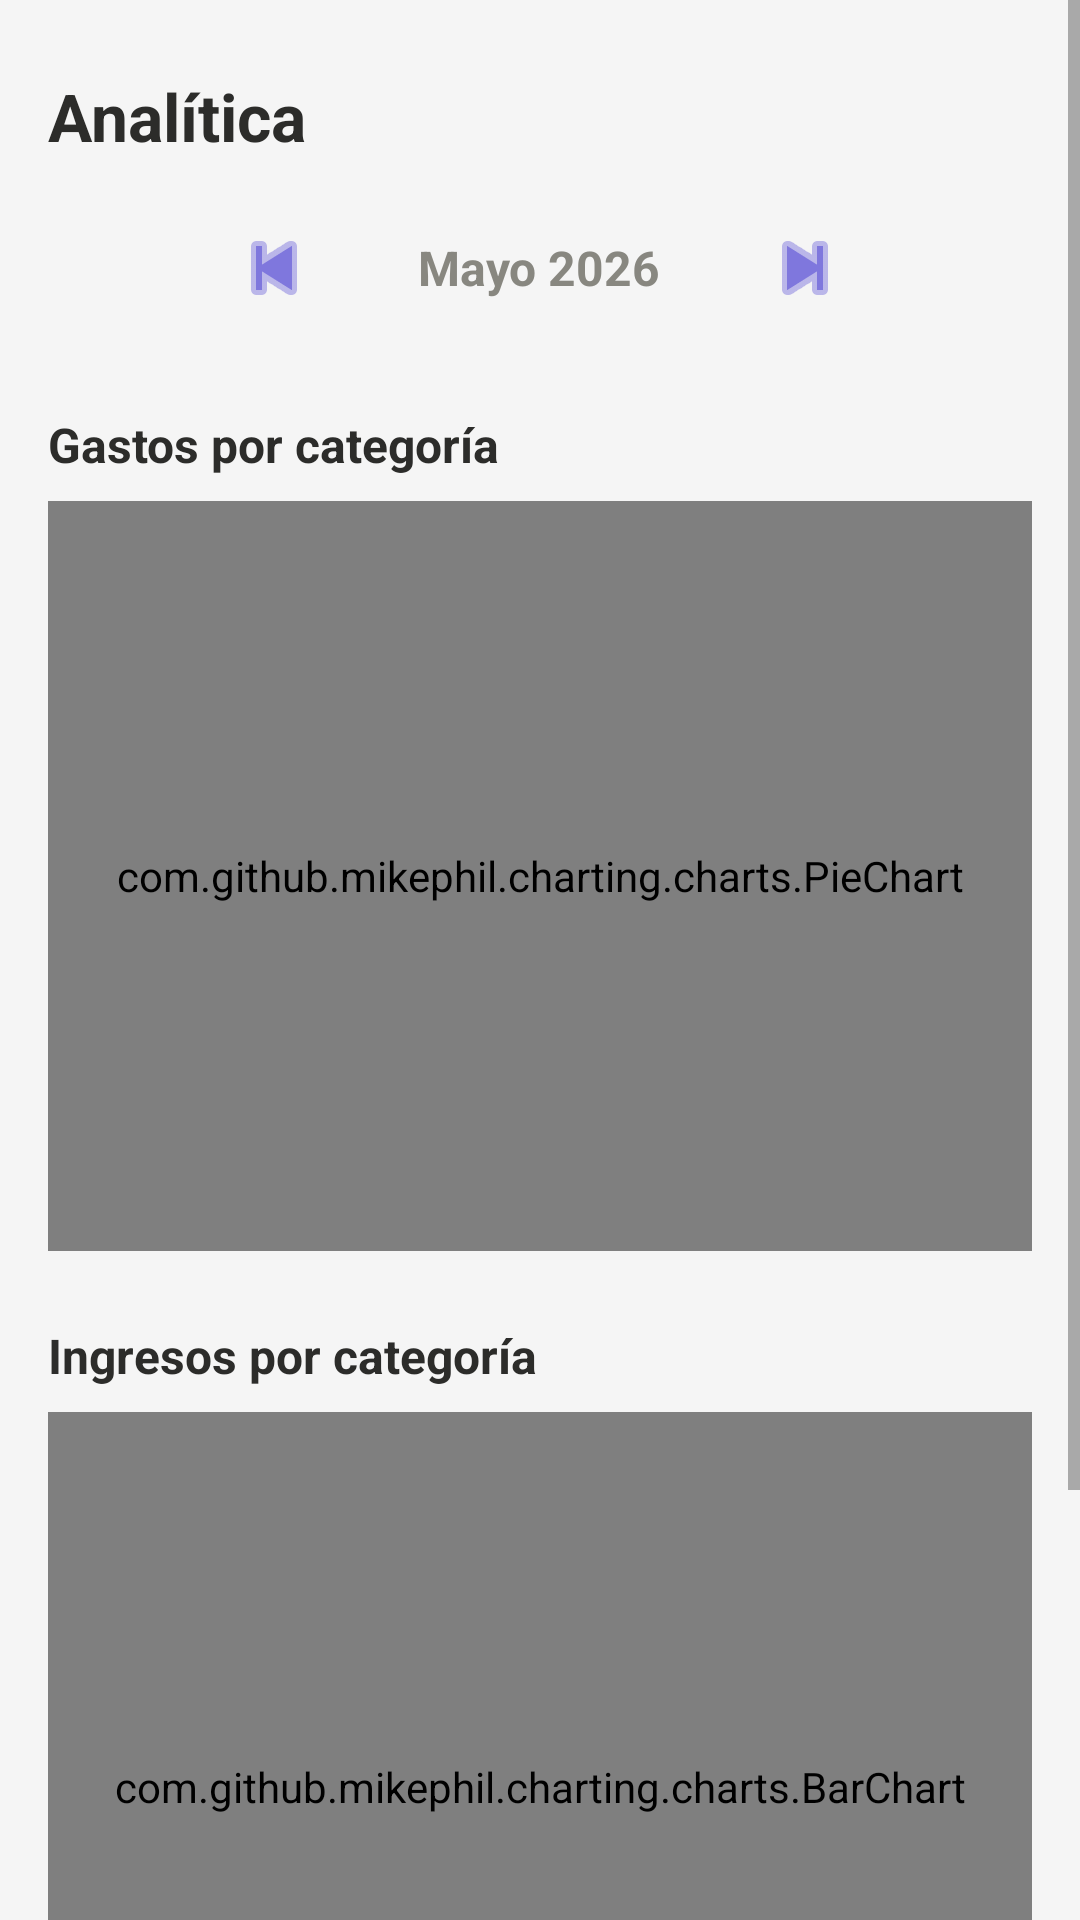

Where to tap for icons on this 1080 × 1920 app screen, as (x=x, y=y):
Mes anterior: (x=274, y=268)
Mes siguiente: (x=805, y=268)
